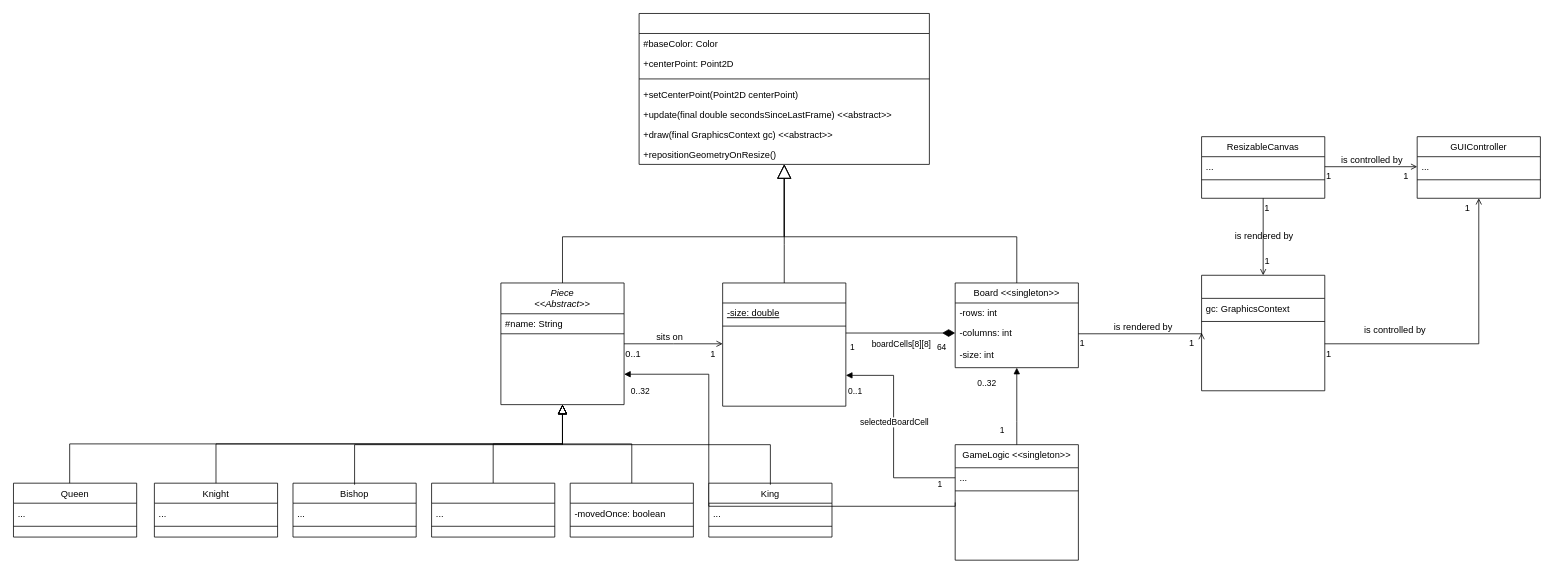
The diagram is 1554 pixels wide and 574 high, and some of its shapes have lost their labels. The box of each missing label's shape, as (x1, y1, x2, y2) in pixels:
BoardCell: (722, 282, 846, 406)
DrawableObject: (638, 13, 929, 164)
Pawn: (569, 482, 693, 537)
Renderer: (1201, 275, 1325, 391)
Rook: (431, 482, 555, 537)
